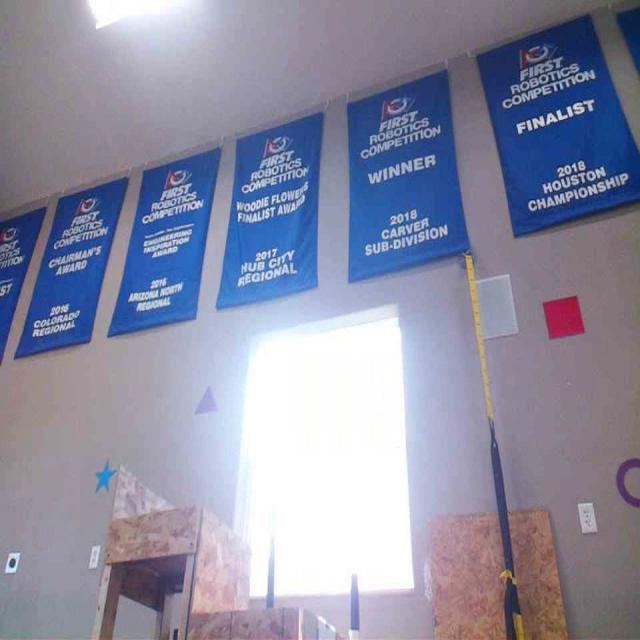ring_purple: (616, 454, 640, 507)
square_red: (541, 293, 583, 338)
star_blue: (93, 458, 116, 492)
triangle_purple: (192, 385, 218, 411)
